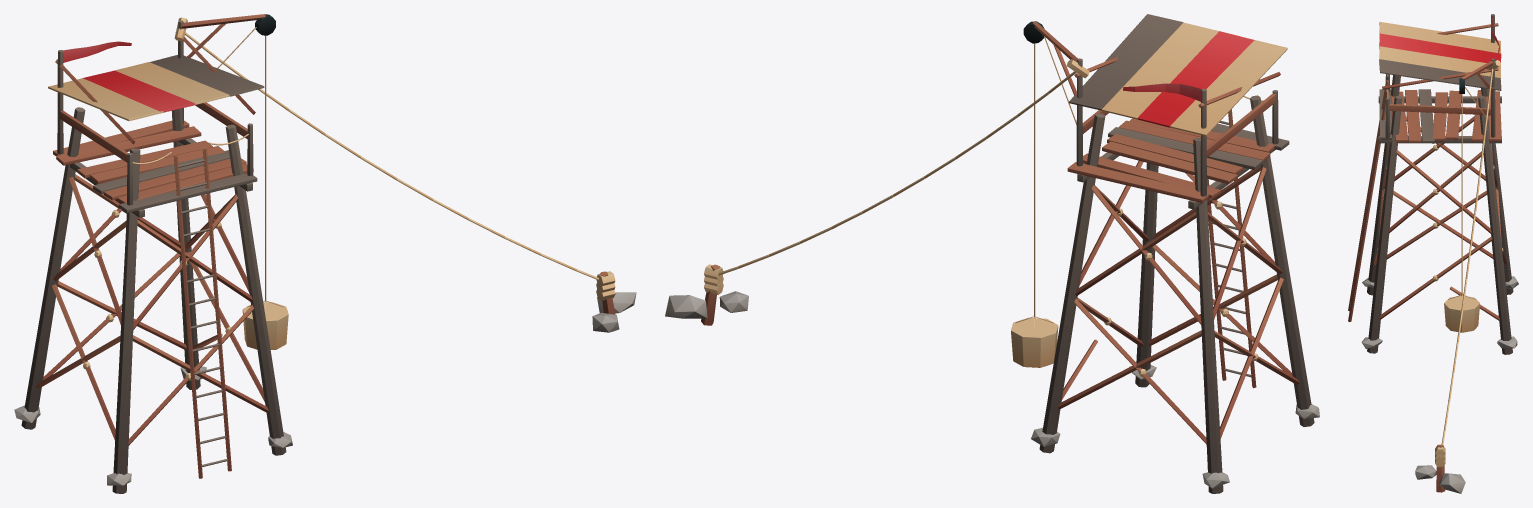
Rendered from bandit_lookout.glb.
3 views of the same model, side by side, from view 1: azimuth 30°, elevation 25°; view 2: azimuth 150°, elevation 25°; view 3: azimuth 270°, elevation 25° (orthographic). The views are drawn at different scales.
Visible parts, largest first — view 1: bandit_lookout; view 2: bandit_lookout; view 3: bandit_lookout.
Boxes of the visible parts, x1,y1,x2,y2 form: bandit_lookout: (14, 14, 636, 493); bandit_lookout: (665, 14, 1319, 493); bandit_lookout: (1348, 14, 1518, 493).
Size of the model in its own units: 14.03 by 8.88 by 4.72.
Materials: 1 (1 with a texture image).
